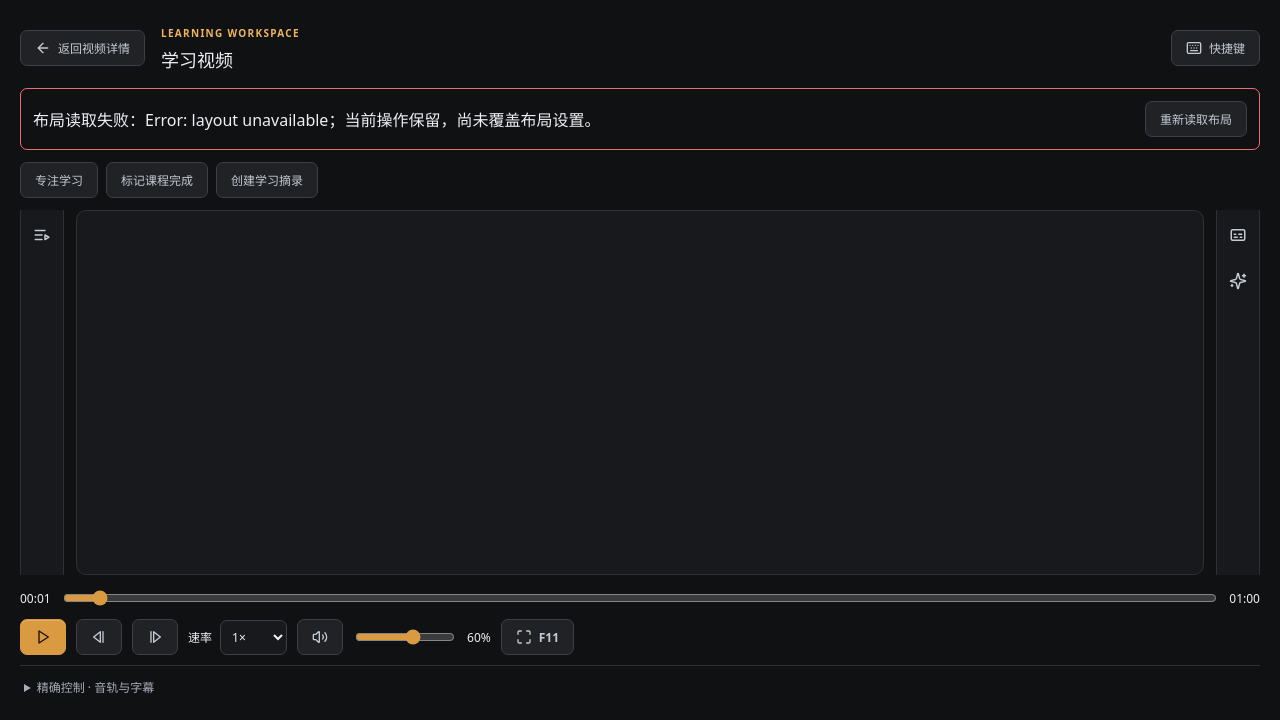
it: keeps playback available after a layout read failure and retries without writing stale settings
Expected: the button named "播放" is shown, [20,619,66,655]
Expected: the message shows "布局读取失败", [33,109,600,131]
What coordinates should you click on to do the following:
click the button "重新读取布局"
I would click on:
 (1196, 119)
Its box is [1145,101,1247,137].
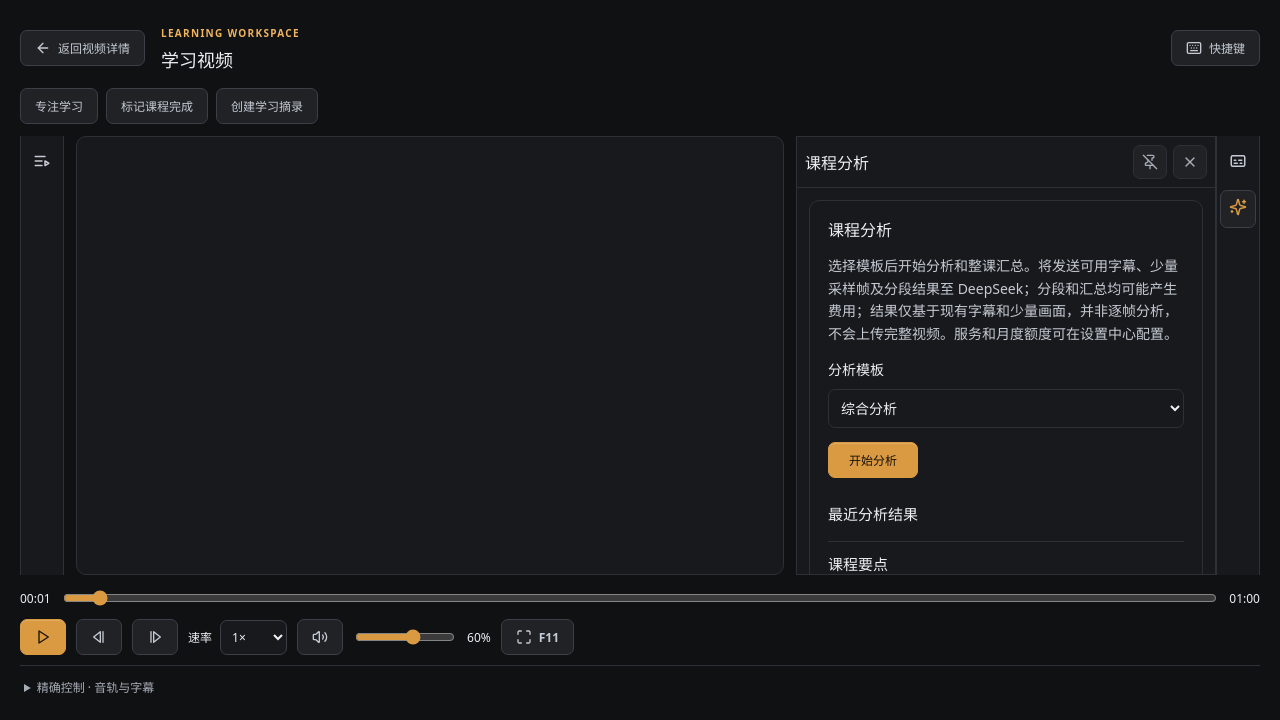
Now the element "课程分析" is shown, box [809,200,1203,574]
